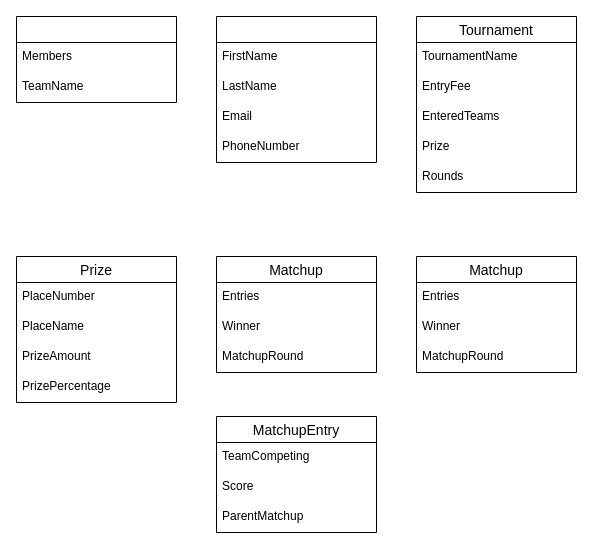
The diagram is 593 pixels wide and 549 high, and some of its shapes have lost their labels. The shapes that lost their labels are listed below. From the top down, each one's box as (x1, y1, x2, y2) in pixels, then its label:
(16, 16, 176, 102): Teams
(216, 16, 376, 162): Person
